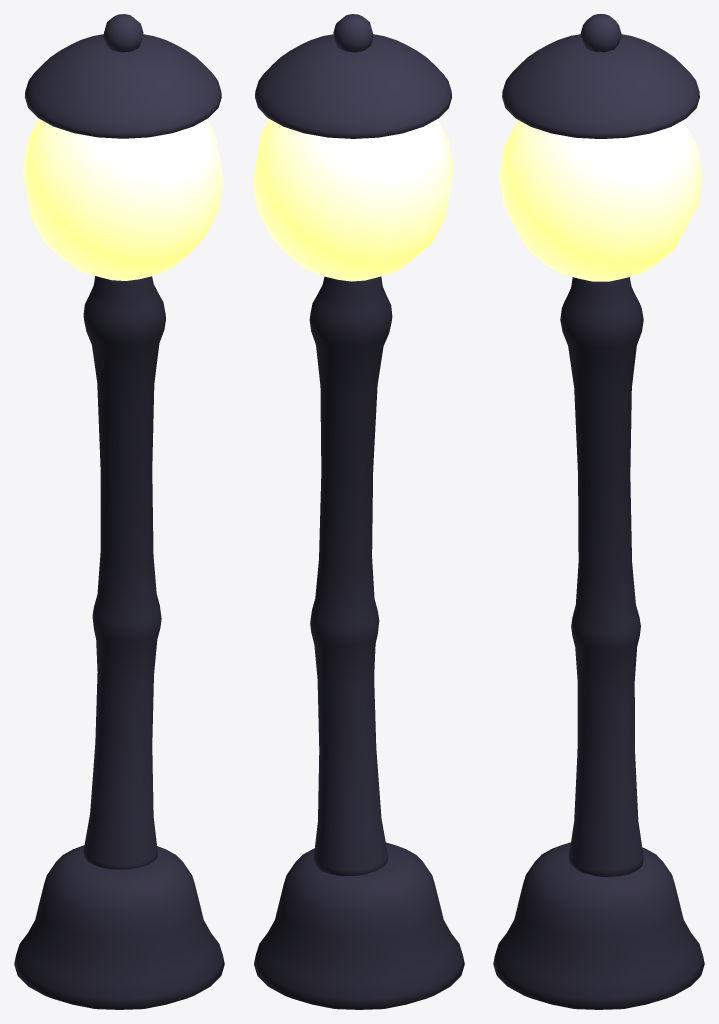
The model's file is lamppost.glb.
The picture shows the model from 3 angles, left to right: view 1: azimuth 30°, elevation 25°; view 2: azimuth 150°, elevation 25°; view 3: azimuth 270°, elevation 25°; orthographic projection.
Visible parts, largest first — view 1: lamppost; view 2: lamppost; view 3: lamppost.
Boxes of the visible parts, x1,y1,x2,y2 form: lamppost: (14,14,224,1009); lamppost: (253,14,464,1009); lamppost: (493,14,704,1009).
Bounding box in the file's own units: 0.5995 × 3 × 0.5995.
